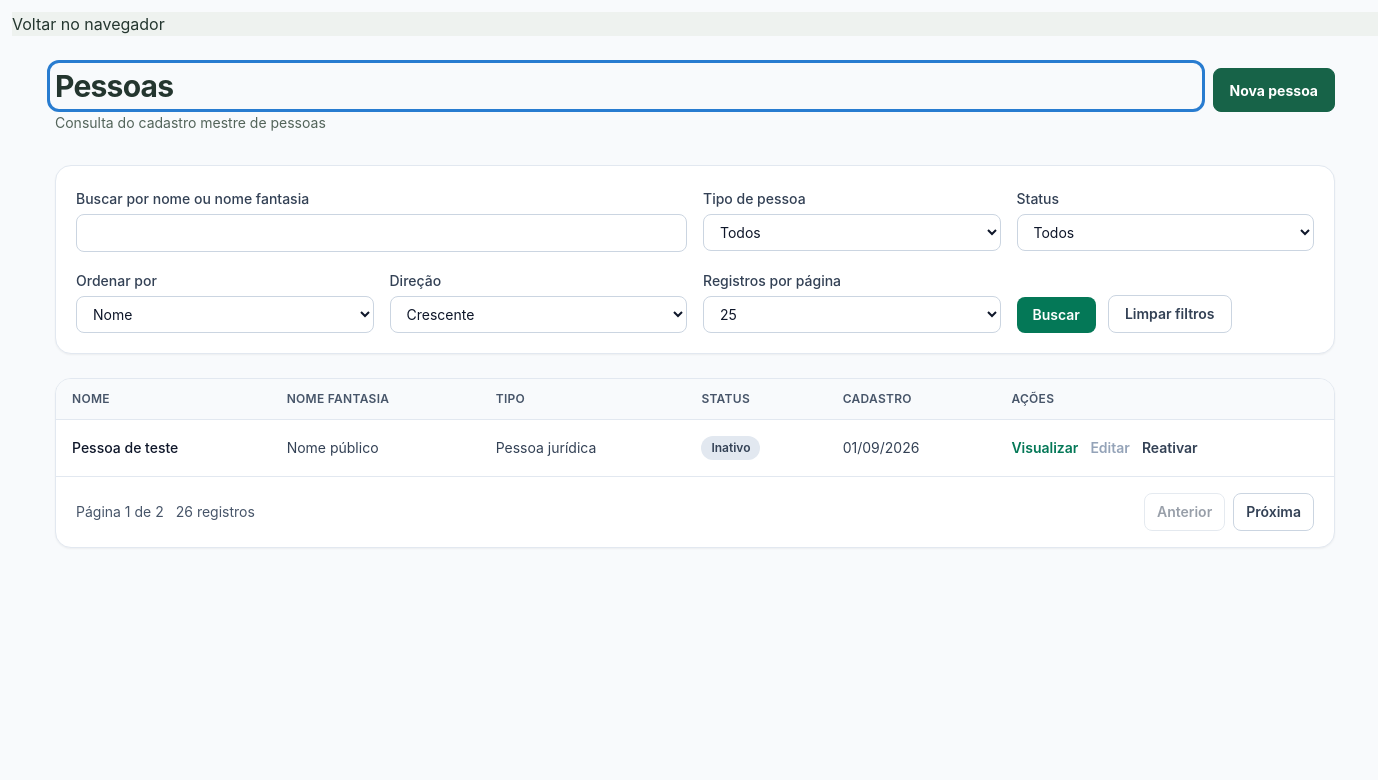
Scenario: consulta dos cadastros básicos › oferece Visualizar antes das demais ações em /pessoas e abre o registro selecionado
This screenshot has width=1378, height=780.
Expected: the text "Pessoa de teste" is shown, 56,420 -> 271,476
Expected: the button "Reativar" is shown, 1142,438 -> 1198,458
Click the link "Visualizar" at coordinates (1045, 448), box 1011,438 -> 1078,458
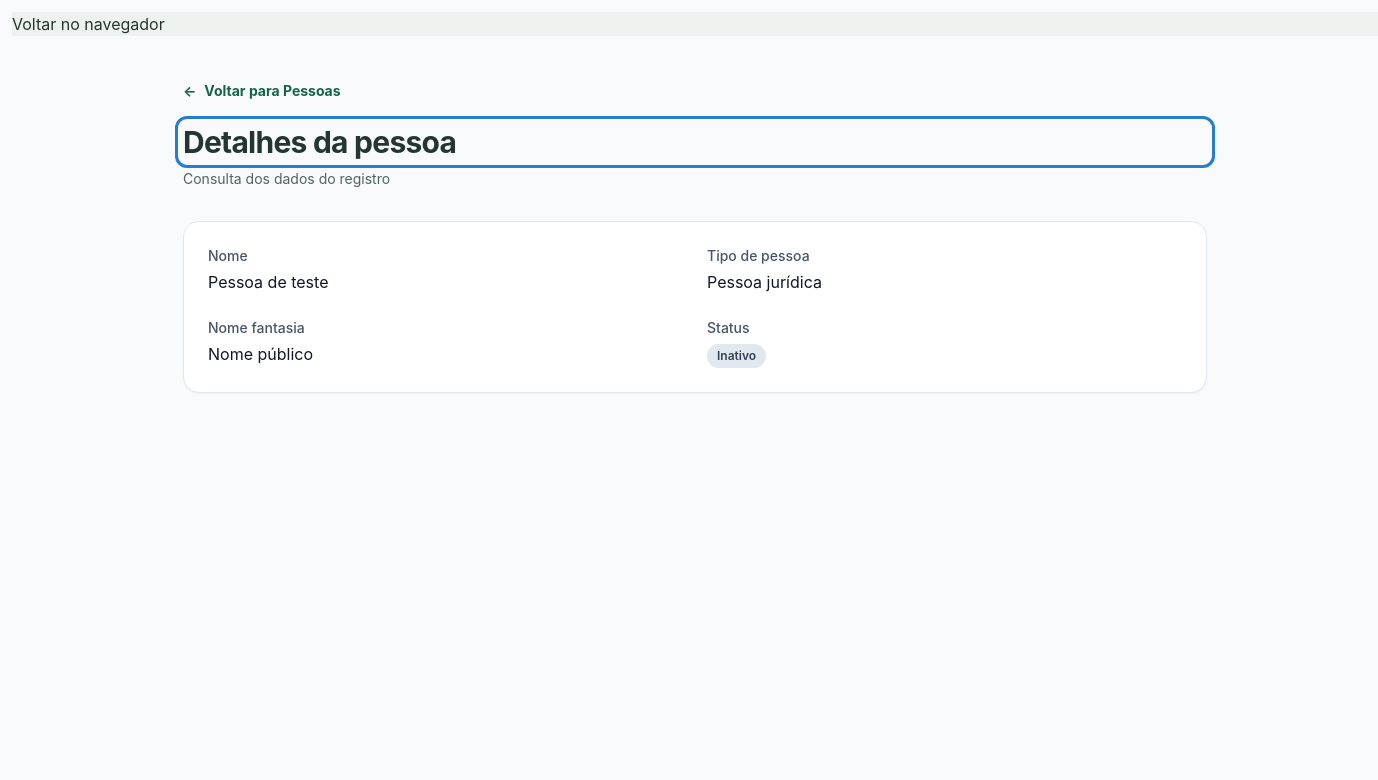
Expected: the text "Pessoa de teste" is shown, 208,272 -> 328,292
Result: the heading shows "Detalhes" at 183,124 -> 456,160
